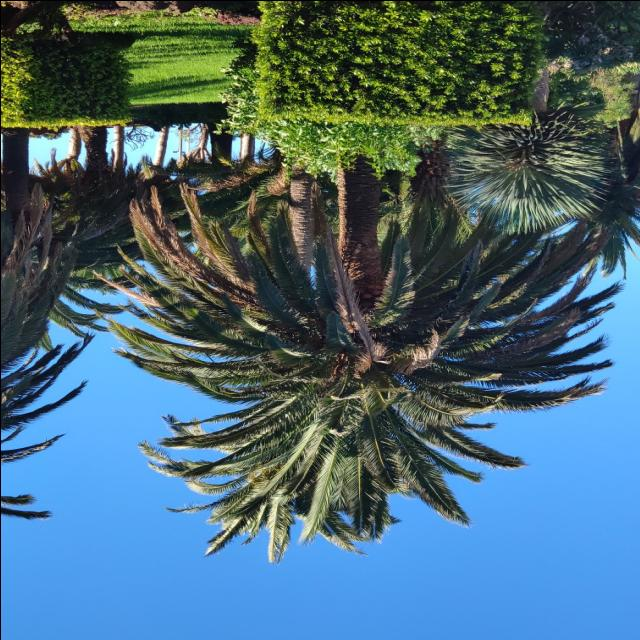Palm-Trees: (164, 130, 556, 540)
